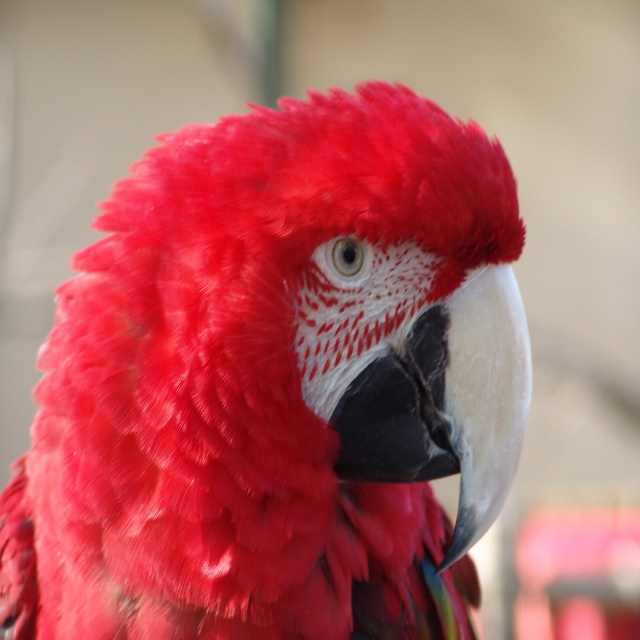Parrot: (0, 78, 532, 638)
